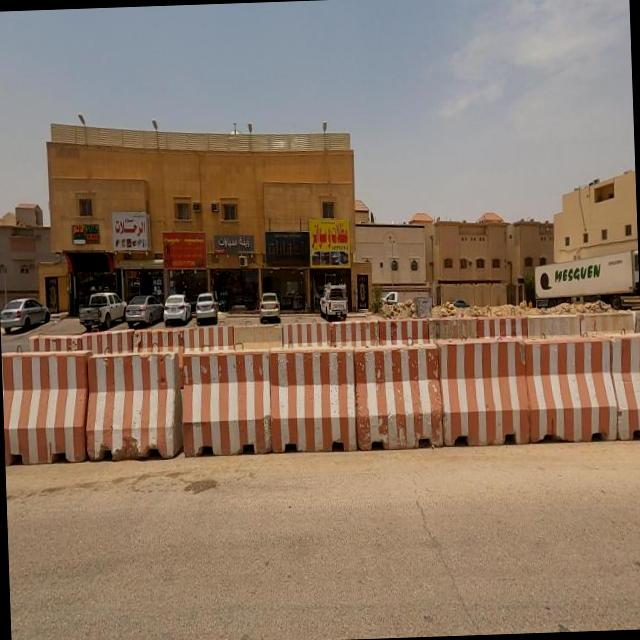debris: (235, 188, 336, 306)
